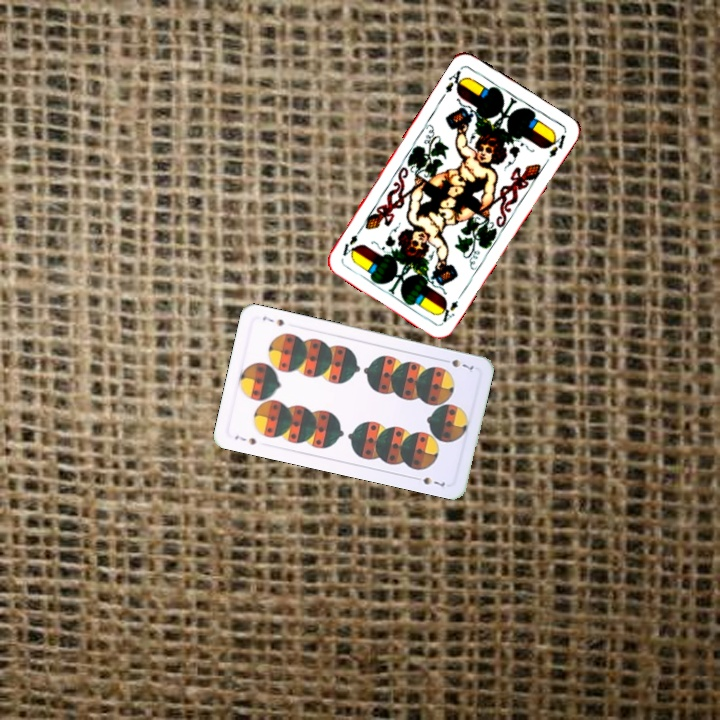EA: (441, 66, 468, 95), (436, 296, 461, 325)
S7: (438, 355, 476, 372), (231, 431, 258, 447)
